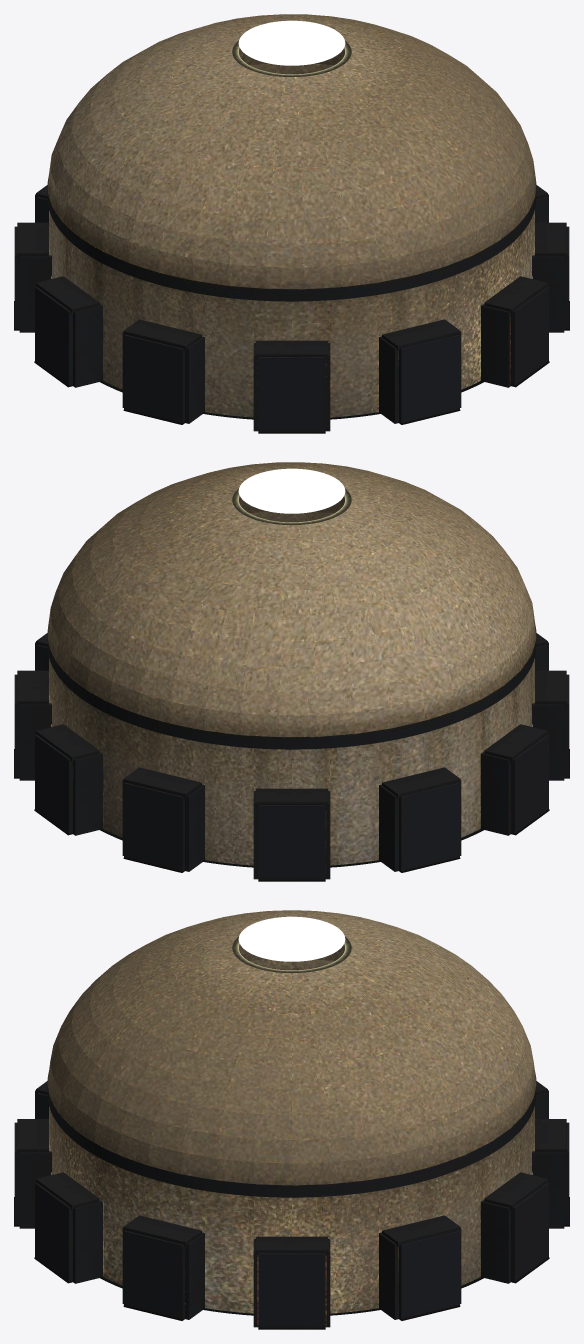
The model's file is great_hall.glb.
The picture shows the model from 3 angles, top to bottom: view 1: azimuth 30°, elevation 25°; view 2: azimuth 150°, elevation 25°; view 3: azimuth 270°, elevation 25°; orthographic projection.
Parts seen in each view (by area): view 1: great_hall_dome, great_hall_walls, great_hall_sky, great_hall_floor, great_hall_trim; view 2: great_hall_dome, great_hall_walls, great_hall_sky, great_hall_floor, great_hall_trim; view 3: great_hall_dome, great_hall_walls, great_hall_sky, great_hall_floor, great_hall_trim.
Boxes of the visible parts, x1=… form: great_hall_dome: x1=47, y1=14, x2=536, y2=301; great_hall_walls: x1=14, y1=185, x2=569, y2=432; great_hall_sky: x1=238, y1=20, x2=345, y2=65; great_hall_floor: x1=14, y1=301, x2=569, y2=433; great_hall_trim: x1=232, y1=40, x2=351, y2=76; great_hall_dome: x1=47, y1=462, x2=536, y2=749; great_hall_walls: x1=14, y1=633, x2=569, y2=880; great_hall_sky: x1=238, y1=468, x2=345, y2=513; great_hall_floor: x1=14, y1=749, x2=569, y2=881; great_hall_trim: x1=232, y1=488, x2=351, y2=524; great_hall_dome: x1=47, y1=910, x2=536, y2=1197; great_hall_walls: x1=14, y1=1081, x2=569, y2=1328; great_hall_sky: x1=238, y1=916, x2=345, y2=961; great_hall_floor: x1=14, y1=1197, x2=569, y2=1329; great_hall_trim: x1=232, y1=936, x2=351, y2=973.
Size of the model in its own units: 34.8 by 18.86 by 34.8.
Materials: 11 (8 with a texture image).
